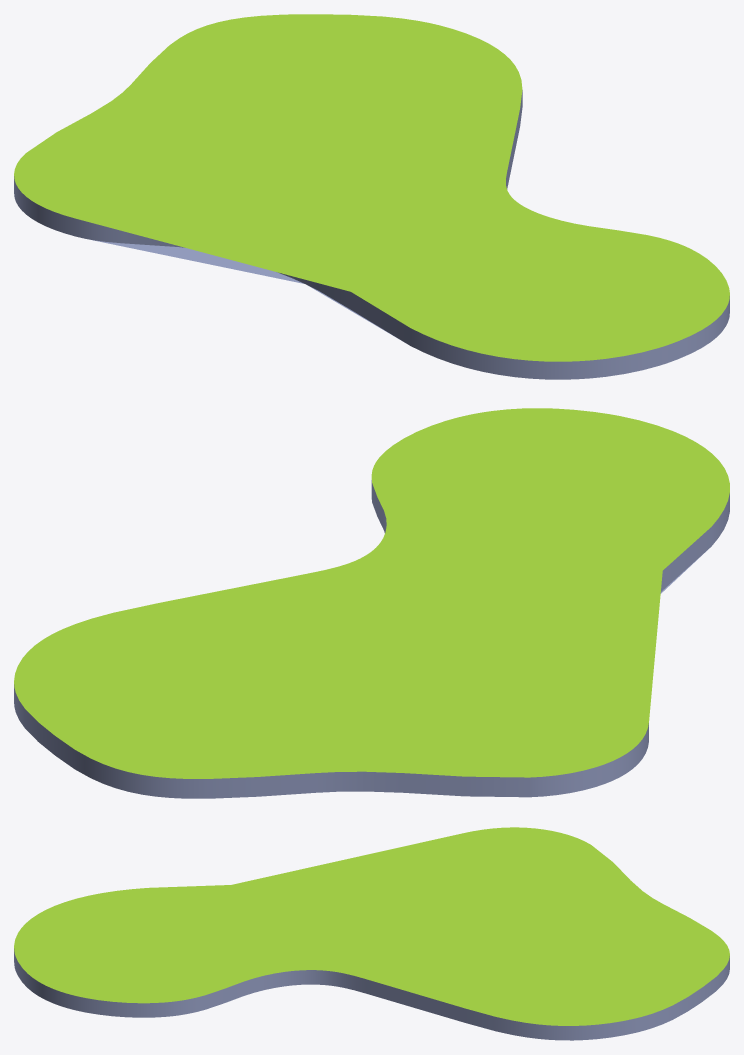
The model's file is Lastholes1.fbx.
3 views of the same model, one above another, from view 1: azimuth 30°, elevation 25°; view 2: azimuth 150°, elevation 25°; view 3: azimuth 270°, elevation 25° (orthographic). The views are drawn at different scales.
Visible parts, largest first — view 1: main; view 2: main; view 3: main.
Part boxes in pixels (x1,y1,x2,y2): main: (14,14,729,379); main: (14,408,729,798); main: (14,827,729,1040).
Size of the model in its own units: 882 by 30 by 1344.
